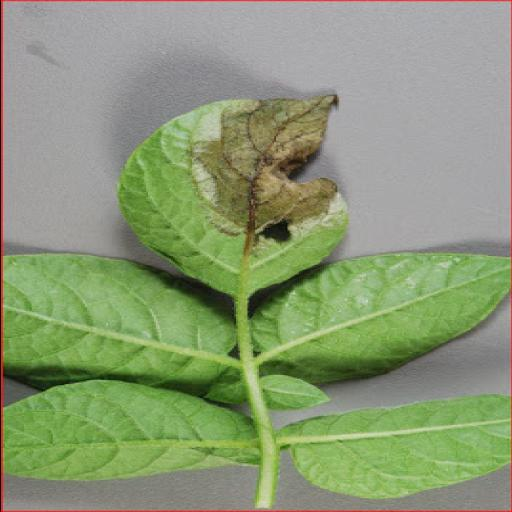Late Blight: (105, 87, 355, 302)
